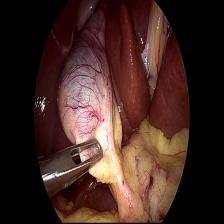Grasper: (34, 135, 107, 191)
